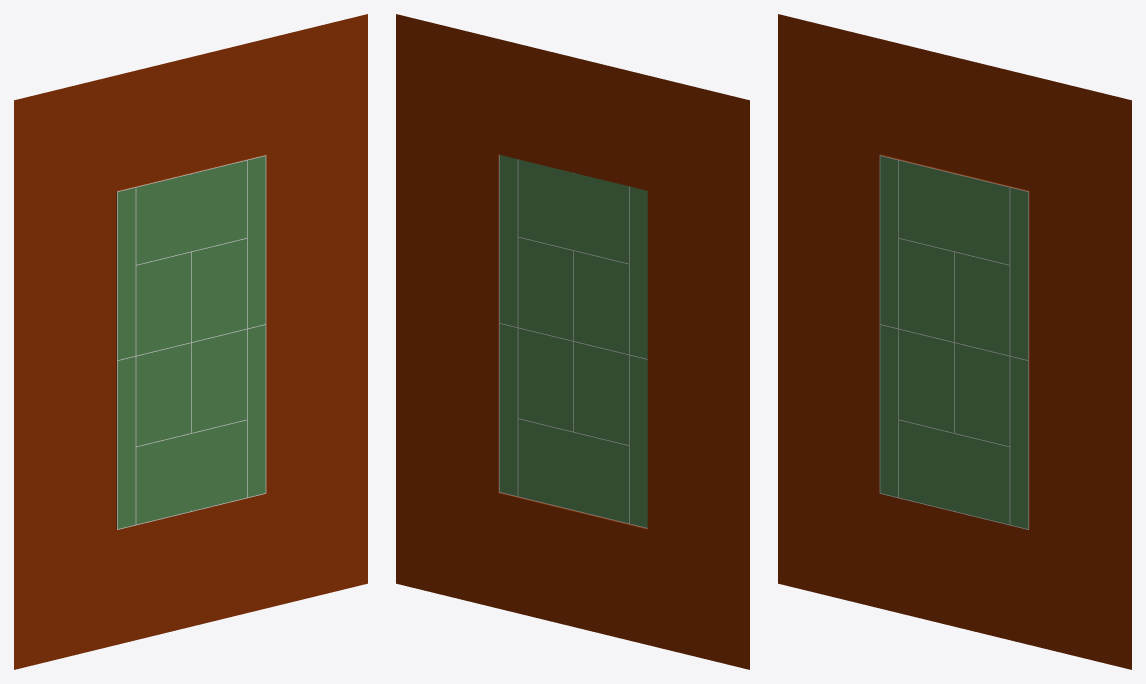
Rendered from OfficialCourtAdjusted.obj.
3 renders of one model, left to right at view 1: azimuth 30°, elevation 25°; view 2: azimuth 150°, elevation 25°; view 3: azimuth 330°, elevation 25°, orthographic.
Parts seen in each view (by area): view 1: Out_Plane.002, Playing_Green_Plane.001, White_Lines_Plane; view 2: Out_Plane.002, Playing_Green_Plane.001, White_Lines_Plane; view 3: Out_Plane.002, Playing_Green_Plane.001, White_Lines_Plane.
Boxes of the visible parts, bbox=[...] form: Out_Plane.002: bbox=[14, 14, 367, 669]; Playing_Green_Plane.001: bbox=[117, 156, 265, 528]; White_Lines_Plane: bbox=[117, 155, 266, 529]; Out_Plane.002: bbox=[396, 14, 749, 669]; Playing_Green_Plane.001: bbox=[499, 155, 647, 527]; White_Lines_Plane: bbox=[499, 154, 647, 528]; Out_Plane.002: bbox=[778, 14, 1131, 669]; Playing_Green_Plane.001: bbox=[880, 156, 1028, 528]; White_Lines_Plane: bbox=[879, 155, 1028, 529].
Bounding box in the file's own units: 26 × 40 × 0.1.
Materials: 3 (3 with a texture image).
